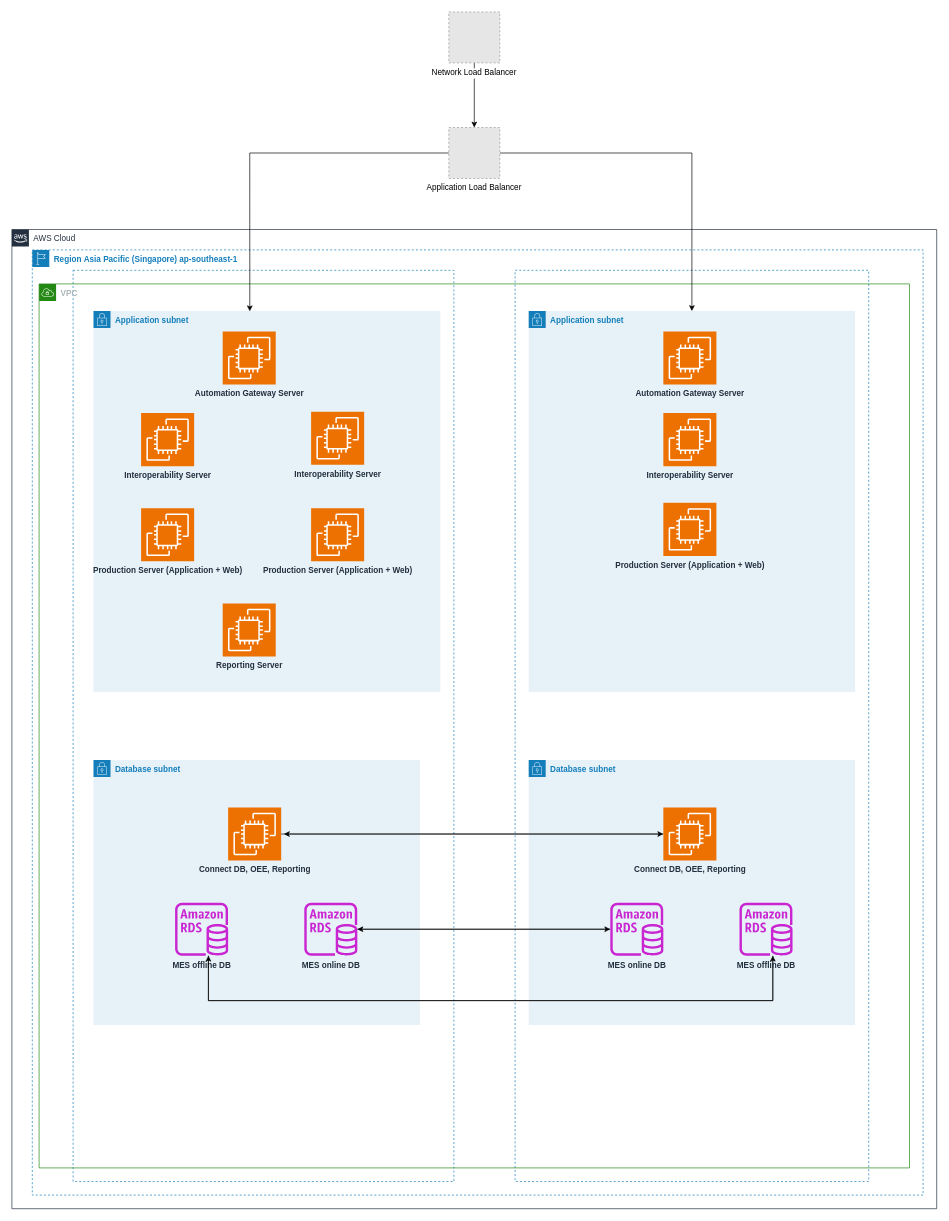
The diagram is 949 pixels wide and 1221 high, and some of its shapes have lost their labels. Grey dashed boxes stand in for pictures. Here are the shapes that lost their labels. From the top down, the box of each, then its label:
(72, 270, 454, 1182): Availability Zone ap-southeast-1-a
(514, 270, 869, 1182): Availability Zone ap-southeast-1-b
